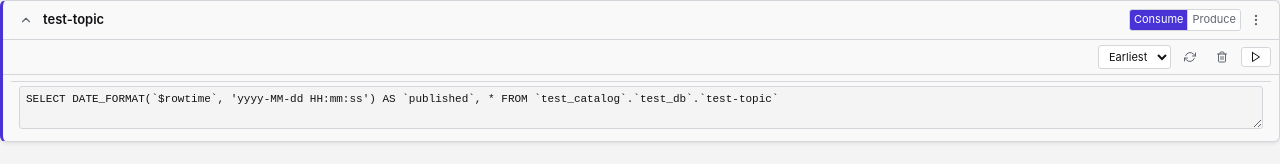
[@stream-card] StreamCard › producer counter in aria-live region
# Switch to Produce mode and start producer
Click the button "Produce". click: (1214, 20)
box: [1188,10,1240,30]
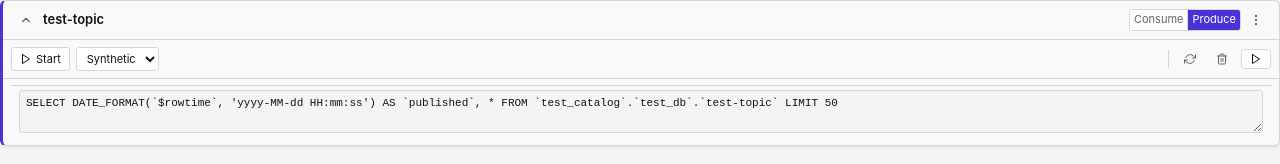
Click the button with aria-label "Start producer". click: (40, 59)
box: [11,47,70,71]
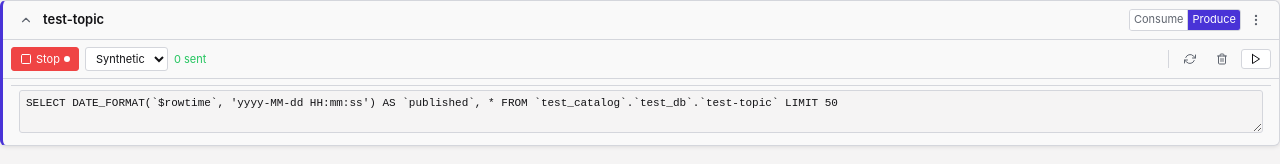
Expected: the text "0 sent" is shown, [174,51,206,67]
